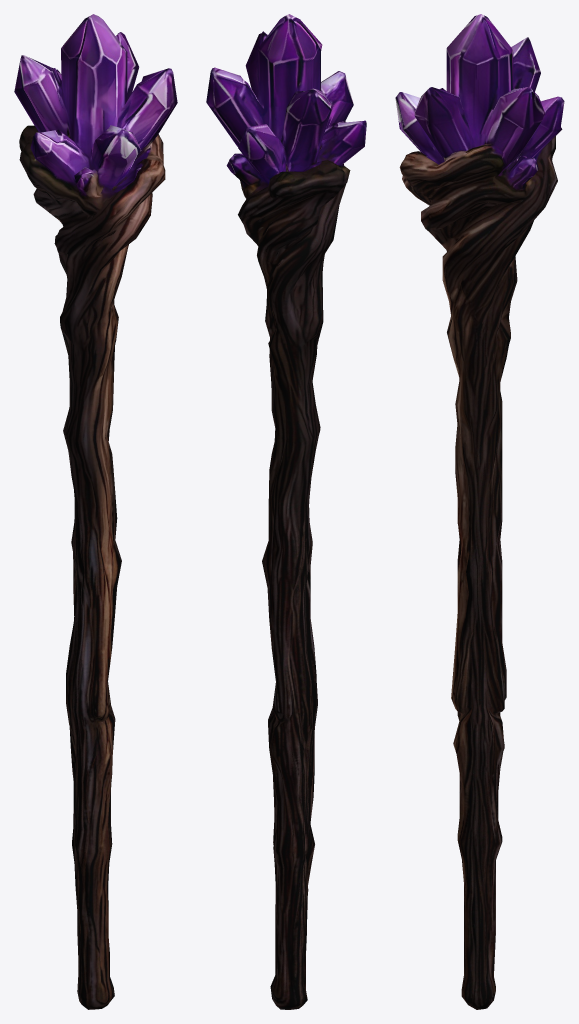
File: purple+crystal+staff+3d+model.glb
The picture shows the model from 3 angles, left to right: view 1: azimuth 30°, elevation 25°; view 2: azimuth 150°, elevation 25°; view 3: azimuth 270°, elevation 25°; orthographic projection.
Visible parts, largest first — view 1: tripo_node_3fe6710b-99b6-4749-b825-3d7251a57192; view 2: tripo_node_3fe6710b-99b6-4749-b825-3d7251a57192; view 3: tripo_node_3fe6710b-99b6-4749-b825-3d7251a57192.
Boxes of the visible parts, x1,y1,x2,y2 form: tripo_node_3fe6710b-99b6-4749-b825-3d7251a57192: (14, 14, 177, 1009); tripo_node_3fe6710b-99b6-4749-b825-3d7251a57192: (206, 14, 366, 1009); tripo_node_3fe6710b-99b6-4749-b825-3d7251a57192: (395, 14, 564, 1009).
Bounding box in the file's own units: 0.1324 × 0.9807 × 0.1516.
1 material, 1 textured.
